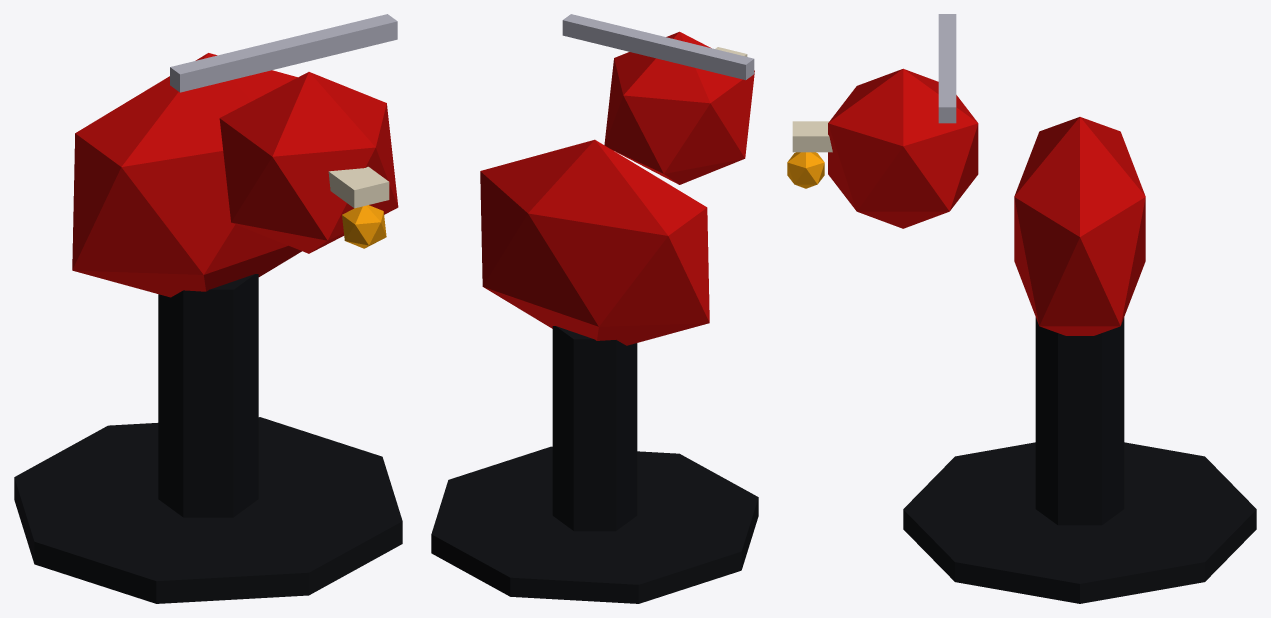
File: spring_rider.obj
3 views of the same model, side by side, from view 1: azimuth 30°, elevation 25°; view 2: azimuth 150°, elevation 25°; view 3: azimuth 270°, elevation 25° (orthographic). The views are drawn at different scales.
Parts seen in each view (by area): view 1: spring_rider; view 2: spring_rider; view 3: spring_rider.
Boxes of the visible parts, x1,y1,x2,y2 form: spring_rider: (14, 14, 402, 603); spring_rider: (431, 14, 758, 603); spring_rider: (787, 14, 1256, 603).
Bounding box in the file's own units: 0.8 × 1.17 × 1.06.
